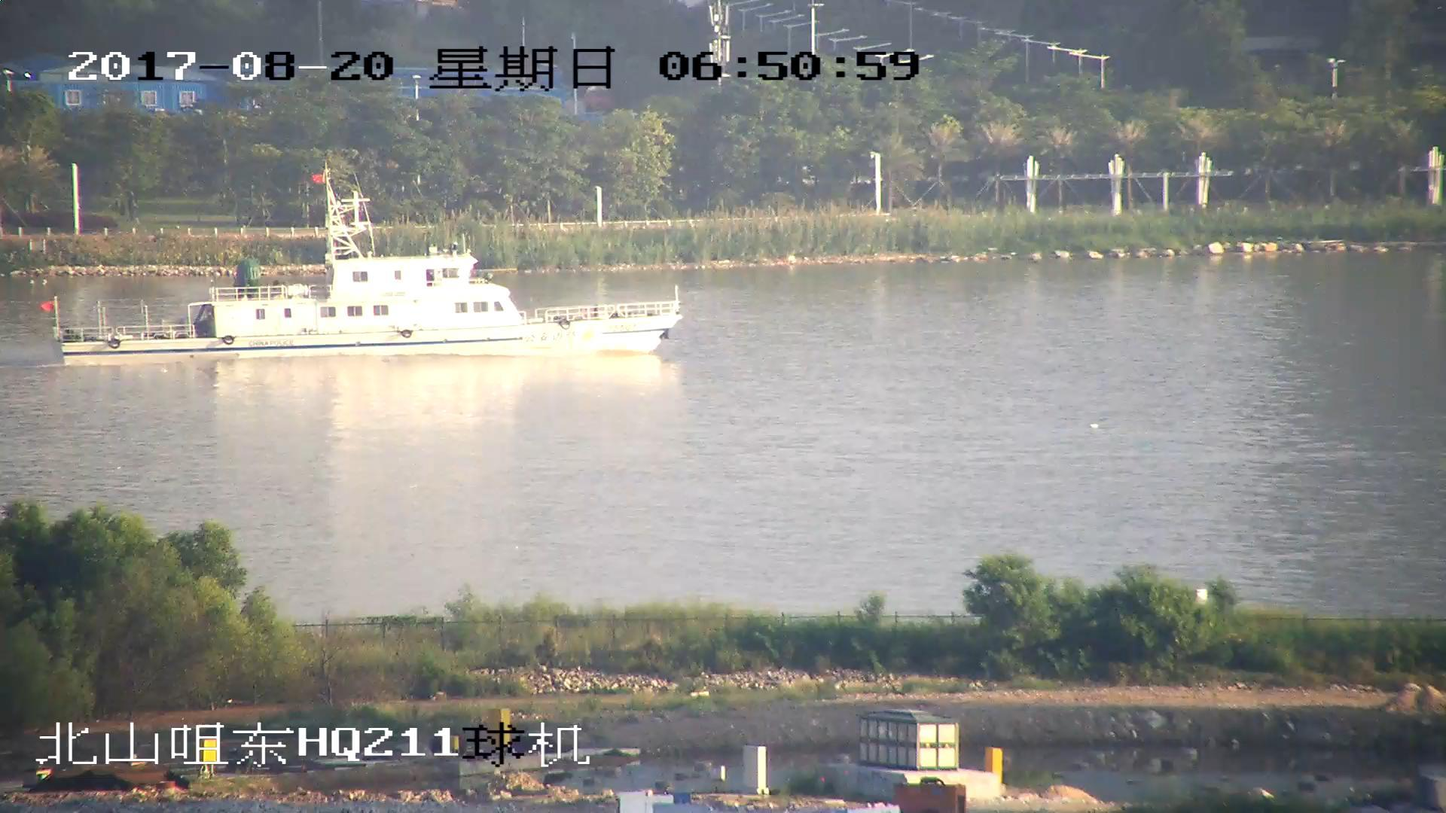passenger ship: (43, 174, 683, 368)
